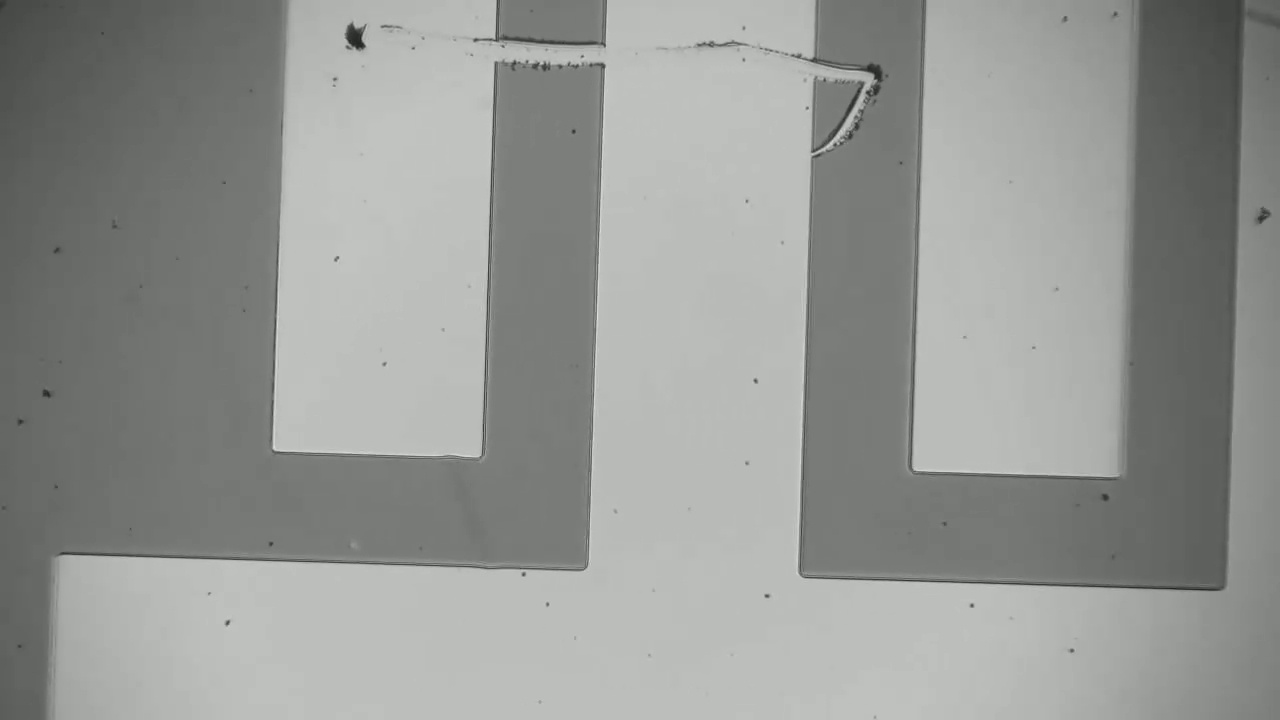Short_circuit: (790, 30, 959, 119), (463, 30, 621, 97)
